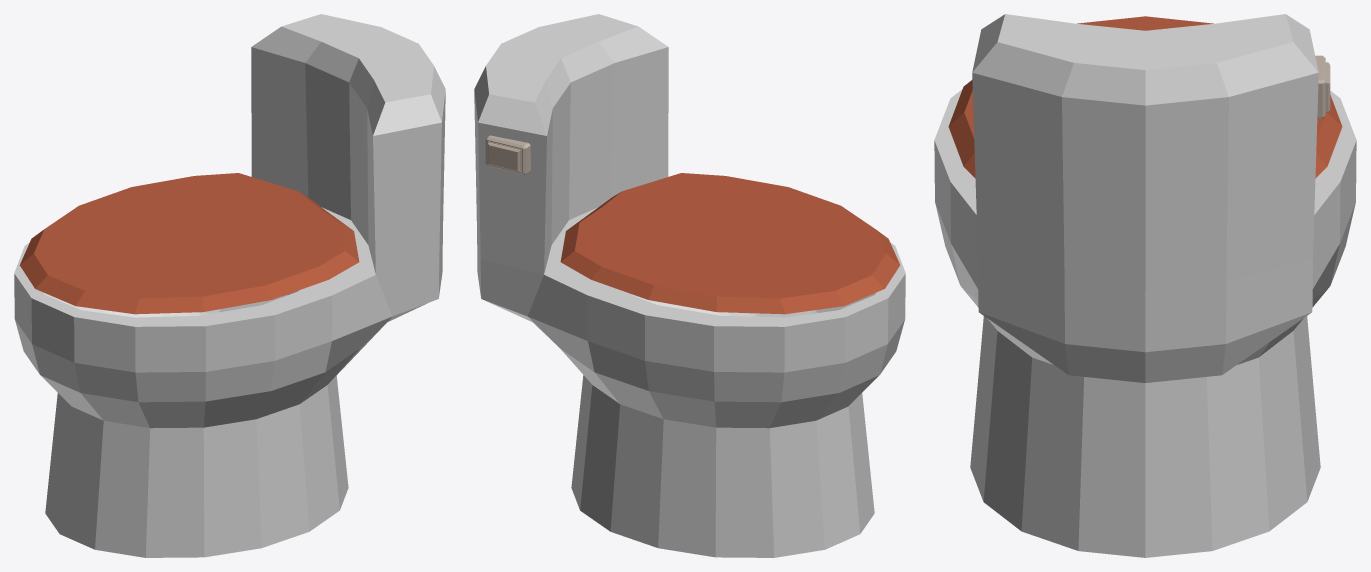
The model's file is Toilet.fbx.
The picture shows the model from 3 angles, left to right: view 1: azimuth 30°, elevation 25°; view 2: azimuth 150°, elevation 25°; view 3: azimuth 270°, elevation 25°; orthographic projection. The views are drawn at different scales.
Parts seen in each view (by area): view 1: Inodoro; view 2: Inodoro; view 3: Inodoro.
Boxes of the visible parts, x1,y1,x2,y2 form: Inodoro: (14,14,445,557); Inodoro: (474,14,905,557); Inodoro: (934,14,1356,557).
Size of the model in its own units: 660 by 641 by 451.
